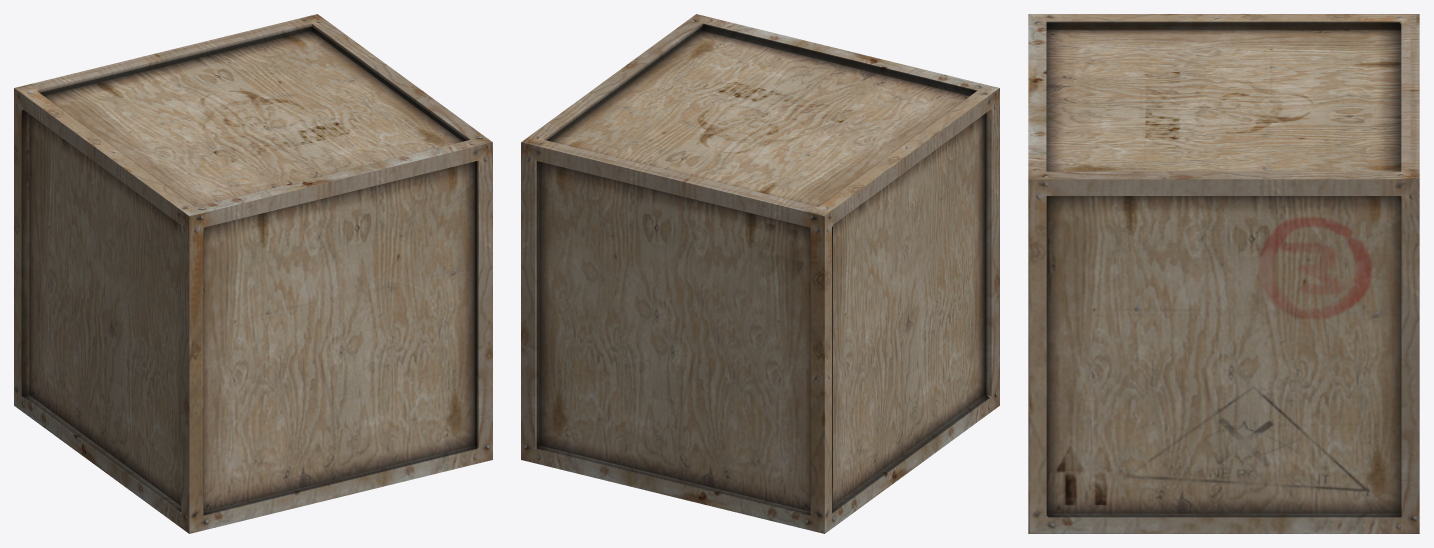
File: Crate.fbx
The picture shows the model from 3 angles, left to right: view 1: azimuth 30°, elevation 25°; view 2: azimuth 150°, elevation 25°; view 3: azimuth 270°, elevation 25°; orthographic projection. The views are drawn at different scales.
Parts seen in each view (by area): view 1: pCube1; view 2: pCube1; view 3: pCube1.
Part boxes in pixels (<box>): pCube1: <box>14,14,492,533</box>; pCube1: <box>521,14,999,533</box>; pCube1: <box>1028,14,1419,533</box>.
Bounding box in the file's own units: 4.27 × 4.27 × 4.27.
